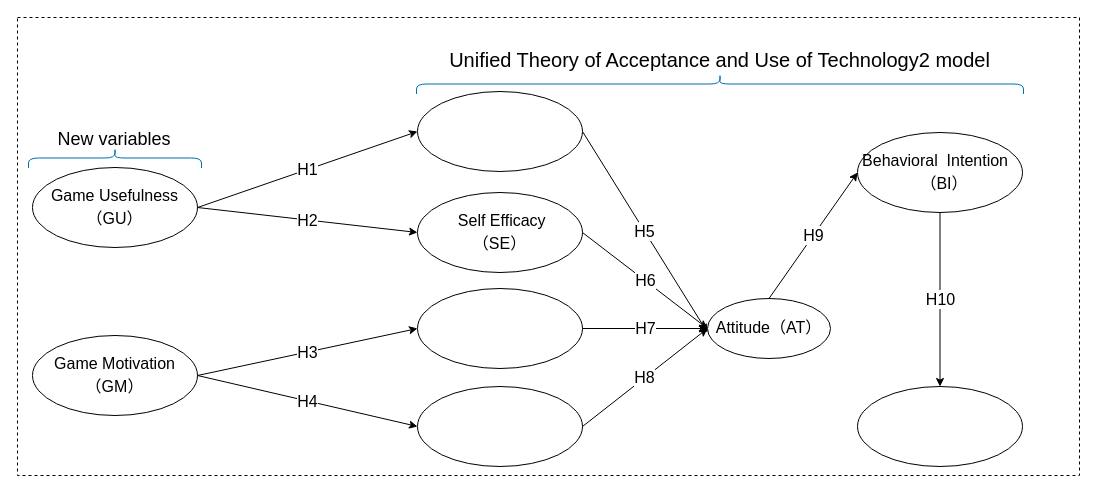
The diagram is 1097 pixels wide and 493 high, and some of its shapes have lost their labels. The centre of each missing label's shape, as x and y in pixels:
"Effort Expectancy （EE）" belongs at (499,328).
"Hedonic Motivation （HM）" belongs at (499,426).
"Performance Expectancy（PE）" belongs at (499,131).
"Use Behavior（UB）" belongs at (939,426).
